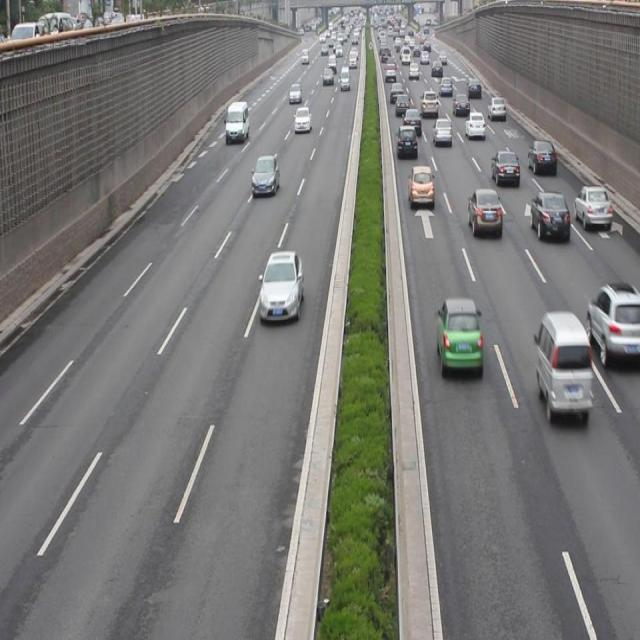car: (587, 282, 640, 366), (436, 299, 481, 378), (259, 246, 300, 322), (528, 192, 568, 243), (572, 185, 610, 231), (468, 188, 501, 236), (250, 153, 280, 195), (527, 140, 557, 178), (490, 150, 518, 188), (409, 164, 432, 208), (395, 124, 416, 159), (432, 116, 451, 148), (402, 105, 420, 137), (464, 112, 484, 138), (294, 106, 311, 131)
truck: (535, 314, 588, 424), (226, 101, 250, 143)
